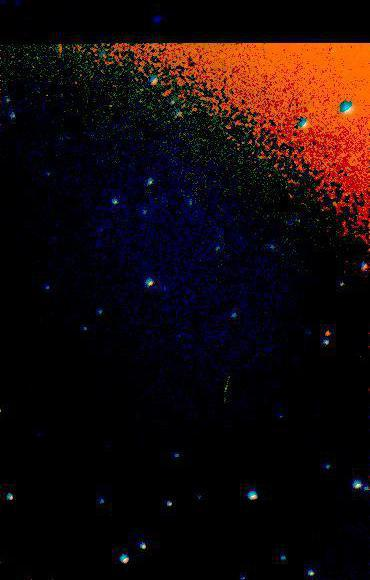star: (314, 317, 344, 347)
